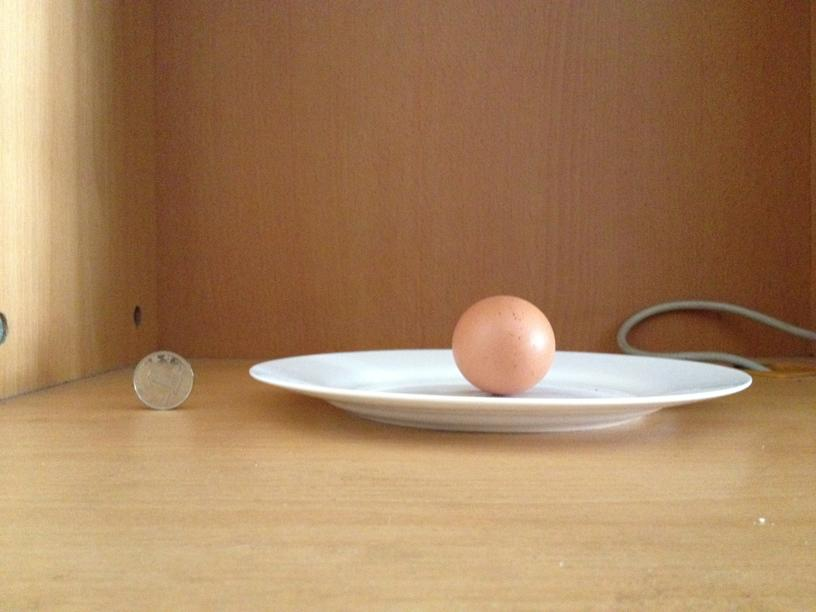coin: (129, 349, 194, 410)
egg: (447, 293, 555, 393)
